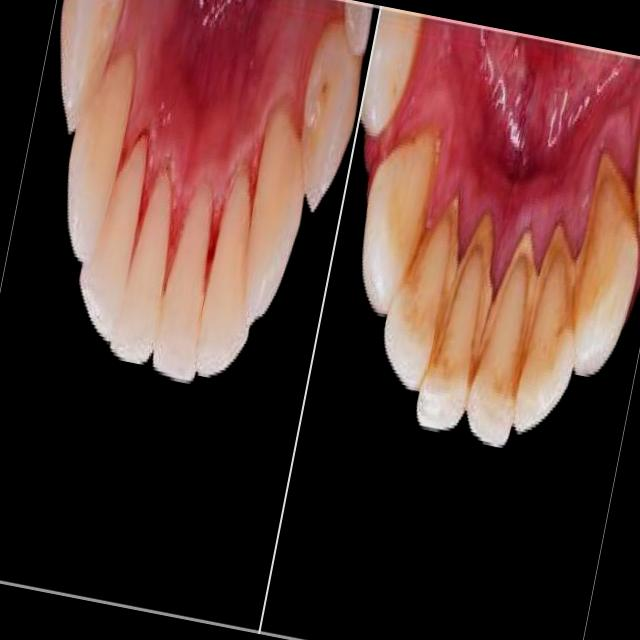calculus: (506, 190, 598, 455), (549, 119, 640, 385), (411, 206, 505, 447), (380, 170, 472, 406), (458, 214, 548, 448), (353, 108, 449, 318)
